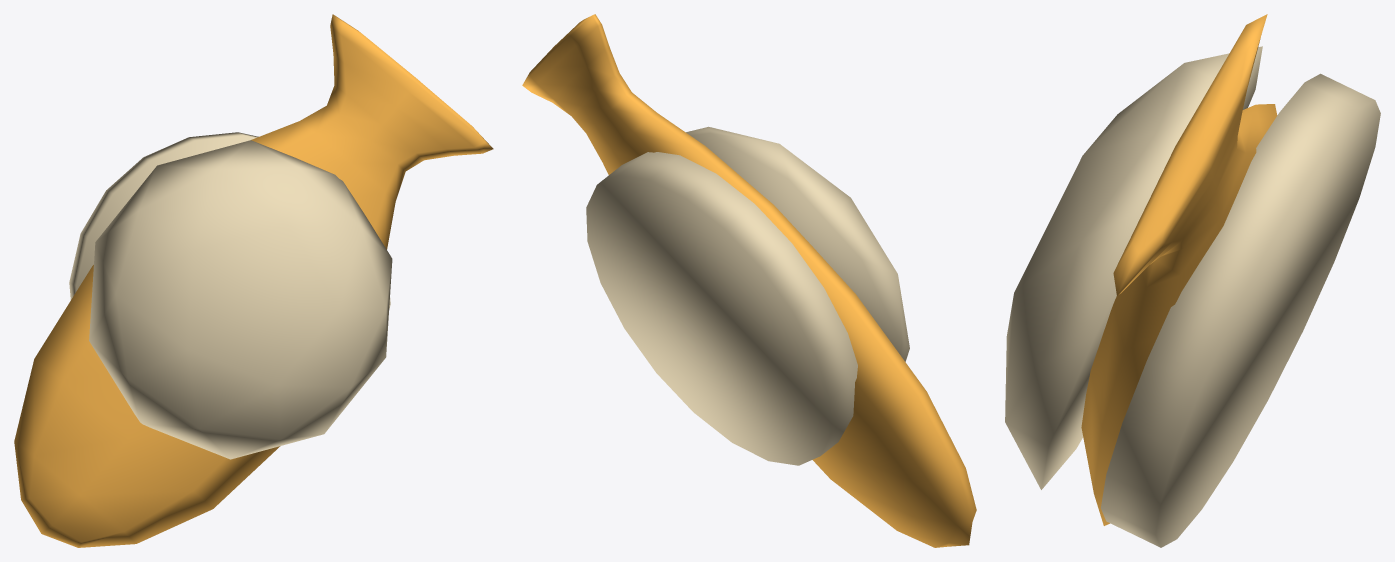
Rendered from liquid_note.gltf.
3 views of the same model, side by side, from view 1: azimuth 30°, elevation 25°; view 2: azimuth 150°, elevation 25°; view 3: azimuth 270°, elevation 25° (orthographic). The views are drawn at different scales.
Parts seen in each view (by area): view 1: Icosphere, Plane.046, liquid_note; view 2: liquid_note, Plane.046, Icosphere; view 3: liquid_note, Icosphere, Plane.046.
Boxes of the visible parts, x1=… form: Icosphere: x1=89, y1=140, x2=392, y2=459; Plane.046: x1=14, y1=14, x2=493, y2=547; liquid_note: x1=69, y1=132, x2=390, y2=308; liquid_note: x1=586, y1=152, x2=857, y2=465; Plane.046: x1=522, y1=14, x2=976, y2=547; Icosphere: x1=686, y1=126, x2=909, y2=361; liquid_note: x1=1101, y1=73, x2=1380, y2=547; Icosphere: x1=1005, y1=46, x2=1262, y2=489; Plane.046: x1=1081, y1=14, x2=1277, y2=525.
Size of the model in its own units: 0.3371 by 0.3205 by 0.1604.
